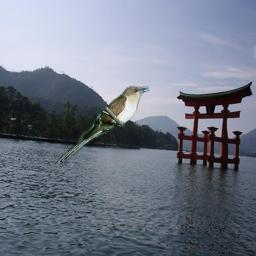Cuckoo: (53, 85, 152, 169)
